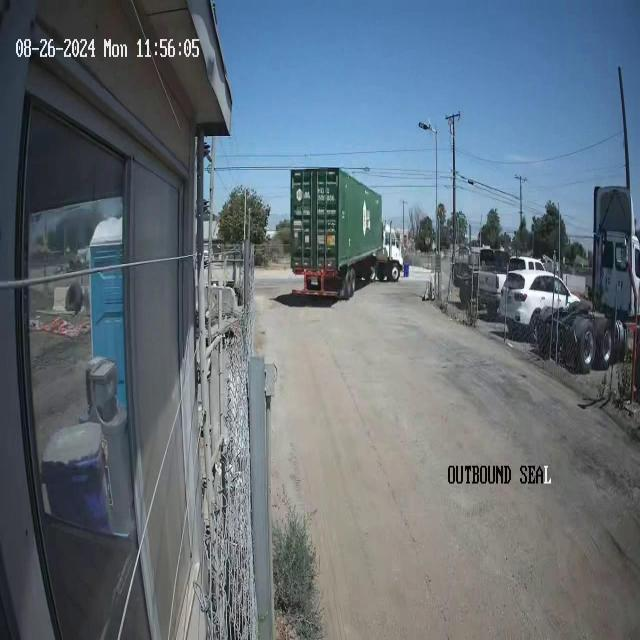TRUCK_OUT: (290, 166, 384, 294)
